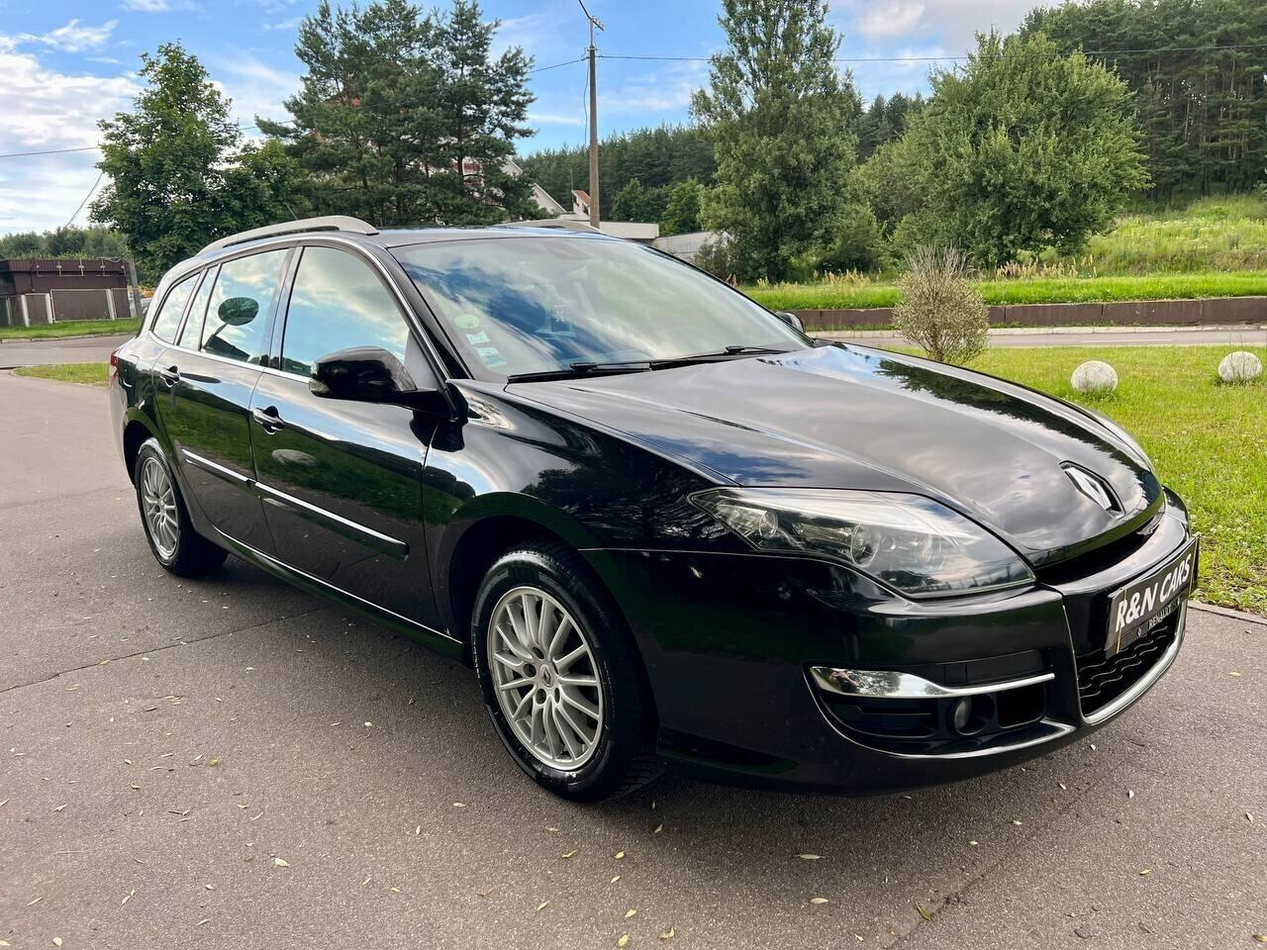Laguna_2010-2015: (110, 205, 1198, 815)
